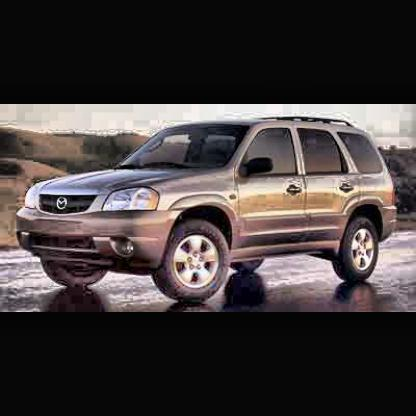Mazda Tribute SUV 2011: (16, 117, 399, 305)
